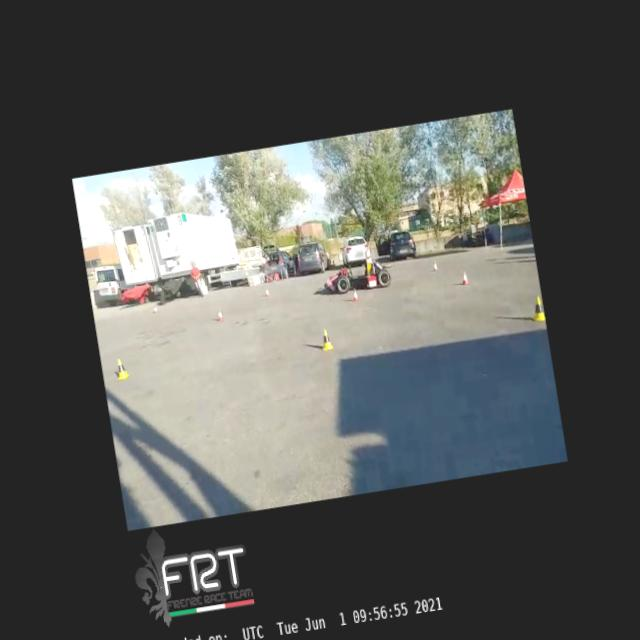orange_cone: (459, 272, 470, 286), (430, 260, 440, 272), (216, 308, 224, 322), (352, 288, 359, 302), (264, 286, 270, 297)
unknown_cone: (150, 302, 159, 314)
yellow_cone: (528, 296, 544, 322), (114, 356, 130, 379), (320, 327, 334, 350)
